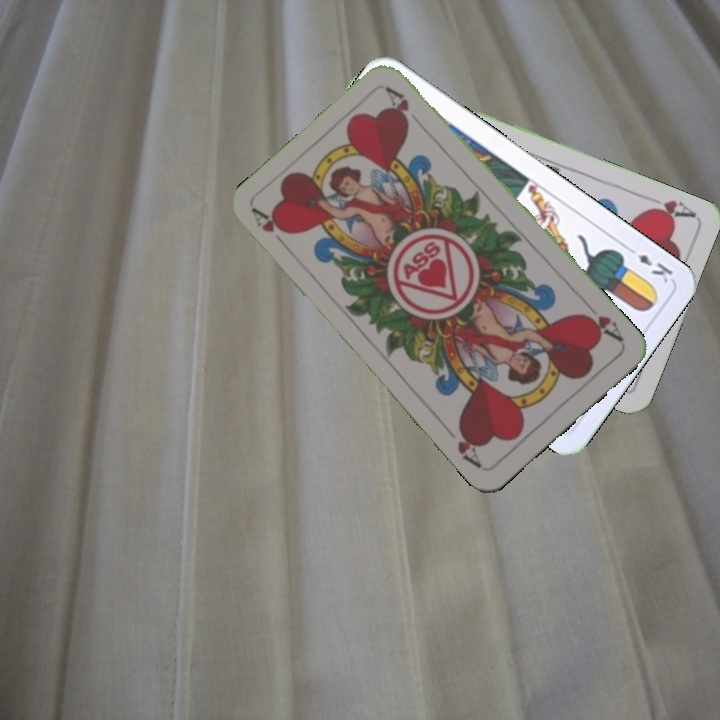EK: (622, 242, 676, 286)
HA: (578, 298, 627, 346), (248, 204, 293, 254), (639, 191, 698, 224)
